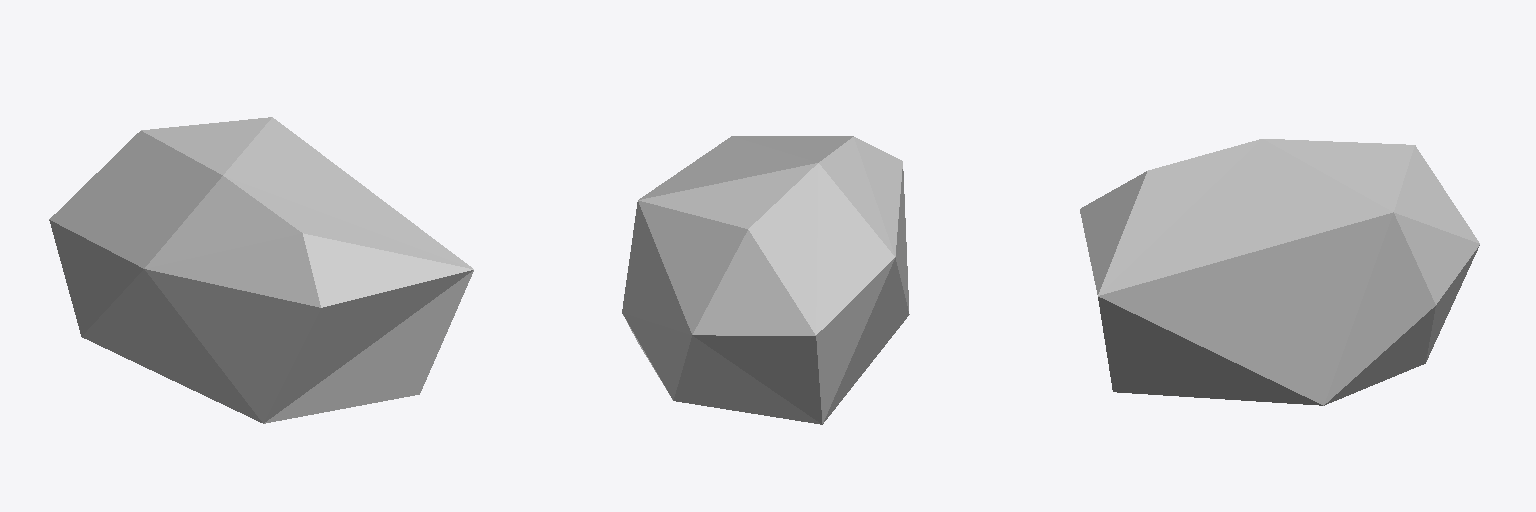
Rendered from rock_012_LOD1.obj.
The picture shows the model from 3 angles: view 1: azimuth 30°, elevation 25°; view 2: azimuth 150°, elevation 25°; view 3: azimuth 270°, elevation 25°; orthographic projection.
Parts seen in each view (by area): view 1: rock_012_LOD1; view 2: rock_012_LOD1; view 3: rock_012_LOD1.
Part boxes in pixels (bbox=[...]): rock_012_LOD1: bbox=[49, 117, 473, 423]; rock_012_LOD1: bbox=[622, 136, 909, 424]; rock_012_LOD1: bbox=[1080, 139, 1479, 405].
Size of the model in its own units: 157 by 114 by 213.